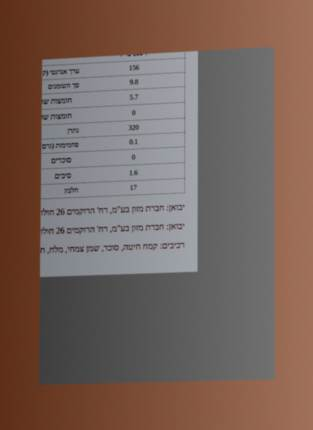carbs: (128, 137, 139, 147)
energy: (128, 63, 140, 73)
fat: (129, 77, 139, 87)
protein: (129, 183, 138, 192)
